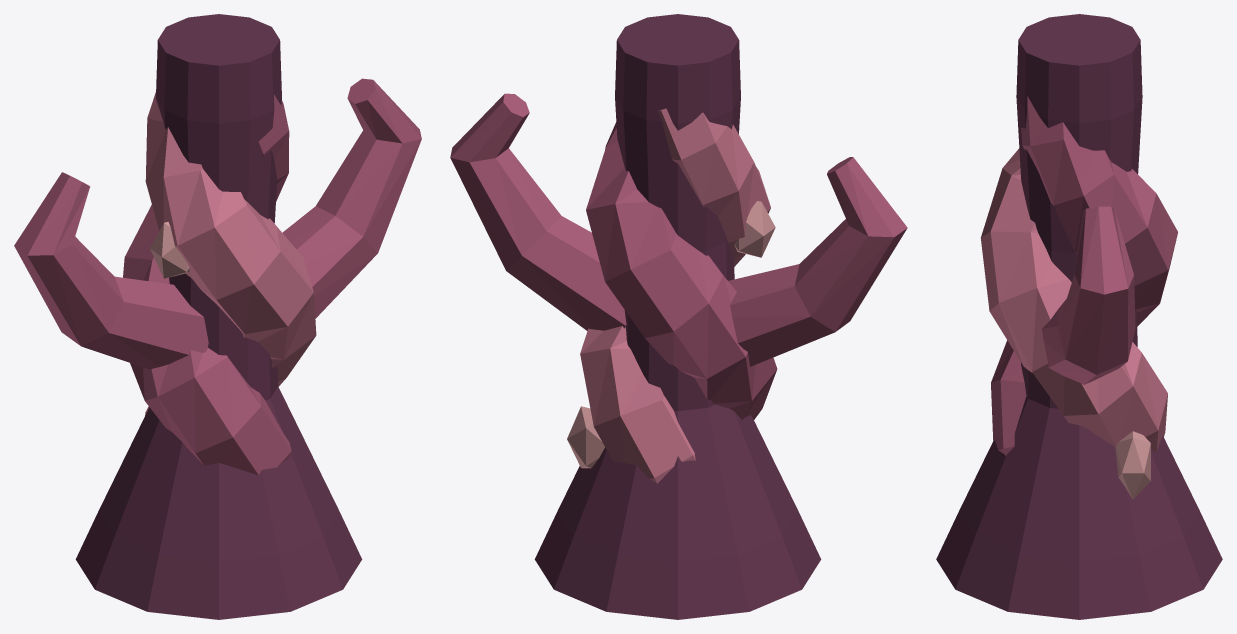
The model's file is RosewoodTwistTrunk.glb.
3 views of the same model, side by side, from view 1: azimuth 30°, elevation 25°; view 2: azimuth 150°, elevation 25°; view 3: azimuth 270°, elevation 25° (orthographic).
Parts seen in each view (by area): view 1: RosewoodTwistTrunk_RosewoodCore, RosewoodTwistTrunk_RosewoodBraid, RosewoodTwistTrunk_RosewoodSecondBraid, RosewoodTwistTrunk_RosewoodKnots; view 2: RosewoodTwistTrunk_RosewoodCore, RosewoodTwistTrunk_RosewoodBraid, RosewoodTwistTrunk_RosewoodSecondBraid, RosewoodTwistTrunk_RosewoodKnots; view 3: RosewoodTwistTrunk_RosewoodCore, RosewoodTwistTrunk_RosewoodBraid, RosewoodTwistTrunk_RosewoodSecondBraid, RosewoodTwistTrunk_RosewoodKnots.
Boxes of the visible parts, box(x1,y1,x2,y2) form: RosewoodTwistTrunk_RosewoodCore: box(75, 14, 362, 619); RosewoodTwistTrunk_RosewoodBraid: box(14, 78, 421, 475); RosewoodTwistTrunk_RosewoodSecondBraid: box(145, 92, 316, 415); RosewoodTwistTrunk_RosewoodKnots: box(150, 222, 189, 278); RosewoodTwistTrunk_RosewoodCore: box(534, 14, 821, 619); RosewoodTwistTrunk_RosewoodBraid: box(450, 93, 907, 419); RosewoodTwistTrunk_RosewoodSecondBraid: box(580, 108, 770, 483); RosewoodTwistTrunk_RosewoodKnots: box(567, 201, 775, 468); RosewoodTwistTrunk_RosewoodCore: box(936, 14, 1222, 619); RosewoodTwistTrunk_RosewoodBraid: box(991, 96, 1177, 455); RosewoodTwistTrunk_RosewoodSecondBraid: box(980, 148, 1167, 451); RosewoodTwistTrunk_RosewoodKnots: box(1115, 431, 1150, 499).
Bounding box in the file's own units: 2.56 × 3 × 1.5.
